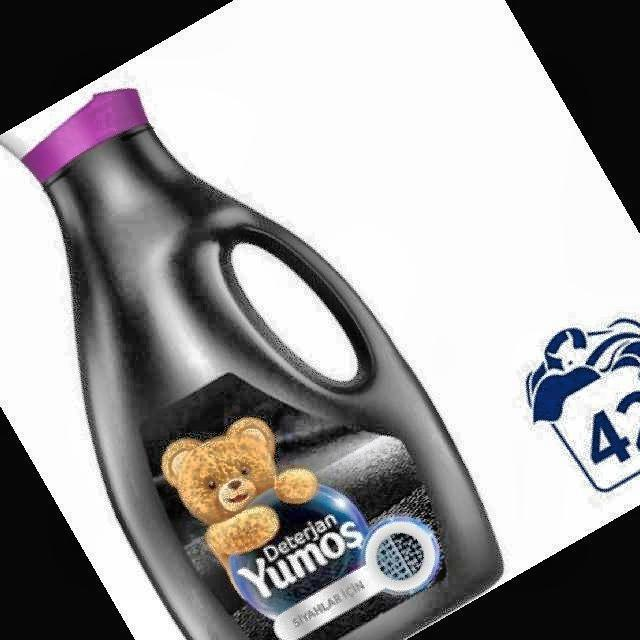plastic: (0, 90, 504, 640)
